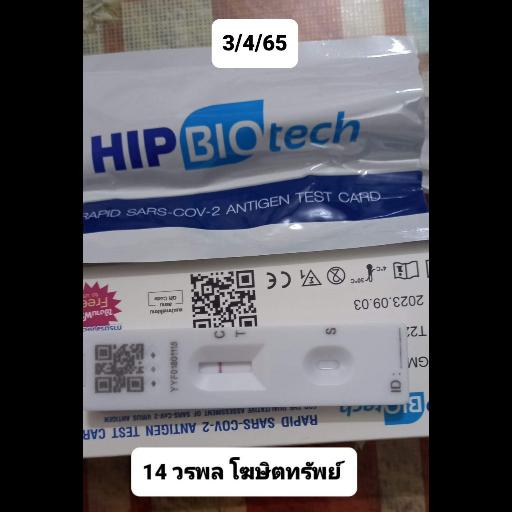Neg: (83, 324, 410, 412)
